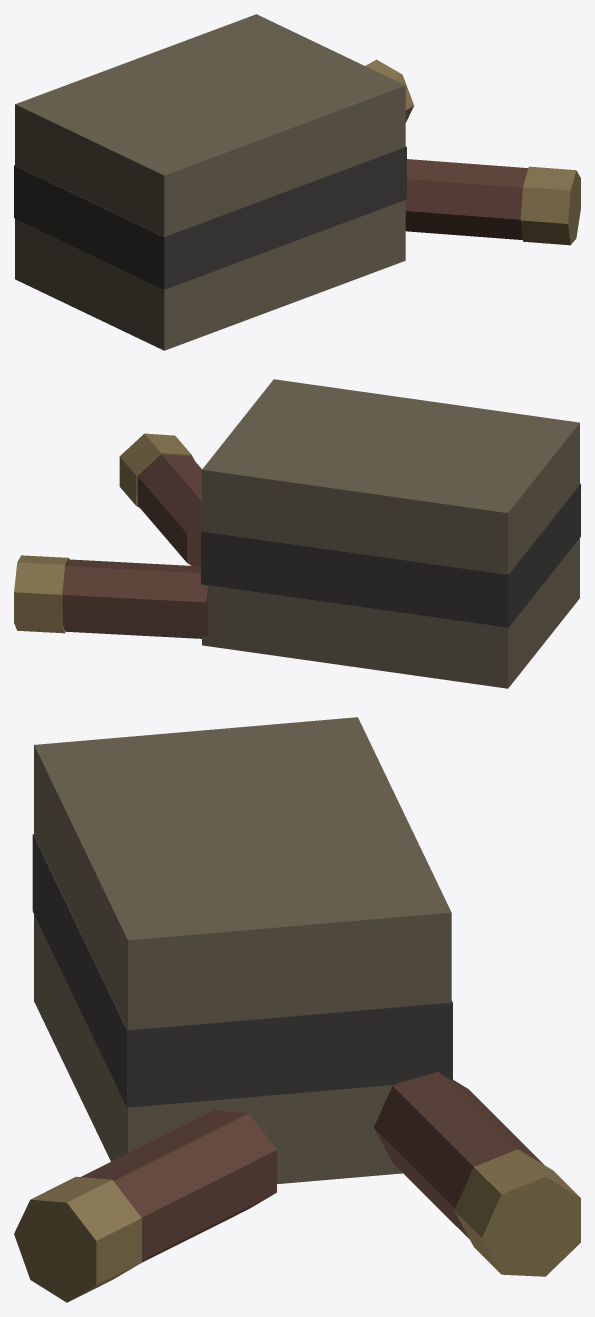
The model's file is shells.glb.
The picture shows the model from 3 angles, top to bottom: view 1: azimuth 30°, elevation 25°; view 2: azimuth 150°, elevation 25°; view 3: azimuth 270°, elevation 25°; orthographic projection. The views are drawn at different scales.
Parts seen in each view (by area): view 1: shells; view 2: shells; view 3: shells.
Boxes of the visible parts, x1,y1,x2,y2 form: shells: (14, 14, 580, 350); shells: (14, 379, 580, 688); shells: (14, 717, 580, 1302).
Bounding box in the file's own units: 0.1712 × 0.06 × 0.1201.
